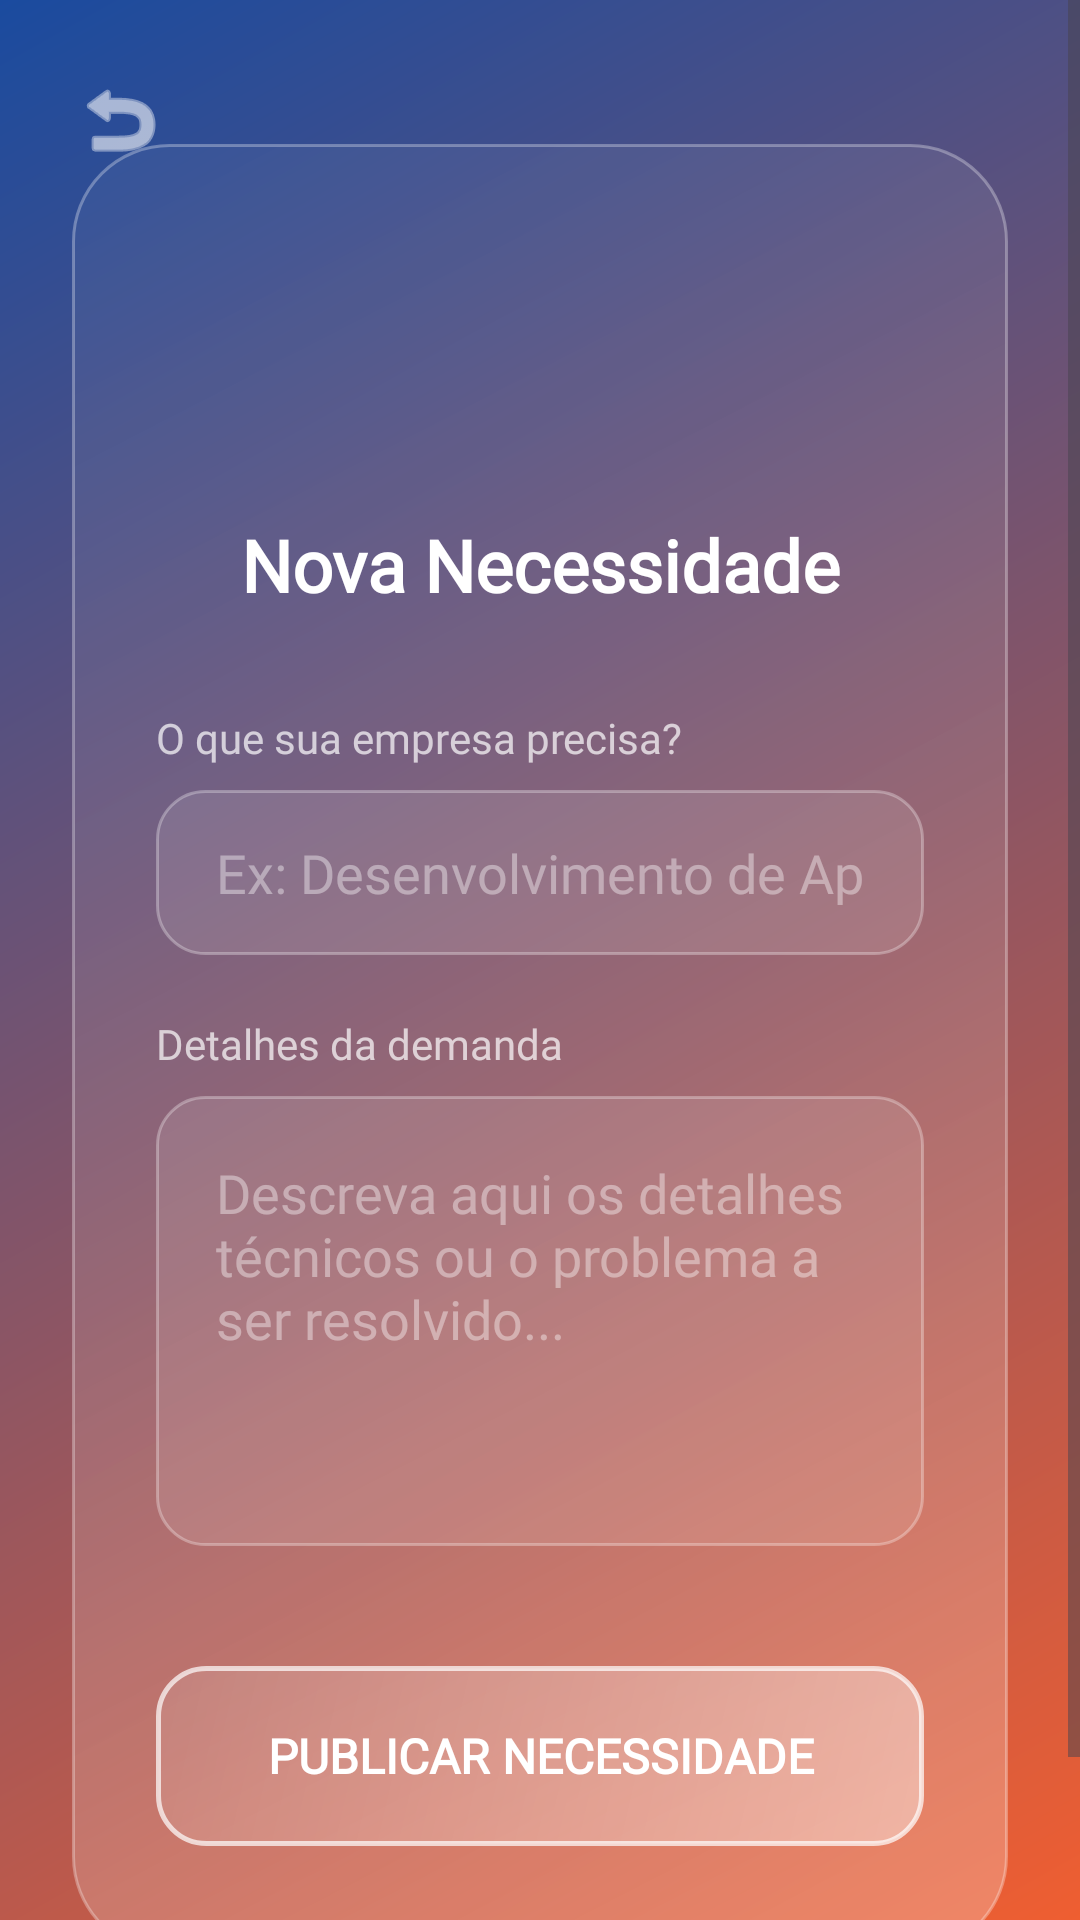

Icons on this 1080 × 1920 Android screen, each with the point to tap as [x,y]:
revert: [139,140]
